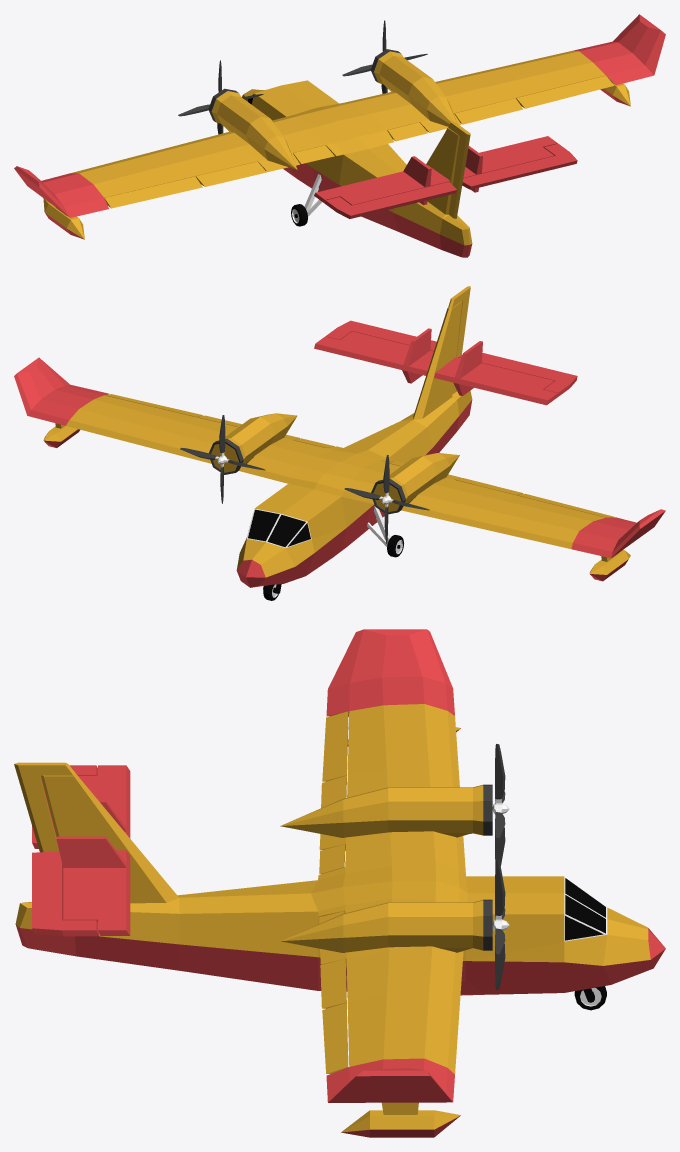
The model's file is canadair.fbx.
3 renders of one model, top to bottom at view 1: azimuth 30°, elevation 25°; view 2: azimuth 150°, elevation 25°; view 3: azimuth 270°, elevation 25°, orthographic. The views are drawn at different scales.
Parts seen in each view (by area): view 1: MainBody, TailPlane, ElevatorLeft, ElevatorRight, AileronLeft, AileronRight, Rubber, Flaps2Left, Flaps2Right, BackWheel, Flaps1Right, Flaps1Left (+2 smaller); view 2: MainBody, TailPlane, ElevatorLeft, ElevatorRight, PropellerLeft, PropellerRight, Rubber, BackWheel; view 3: MainBody, TailPlane, ElevatorRight, Rubber, AileronRight, AileronLeft, PropellerRight, Flaps2Right, PropellerLeft.
Part boxes in pixels (x1,y1,x2,y2): MainBody: (14,14,665,257); TailPlane: (314,136,557,205); ElevatorLeft: (324,182,456,218); ElevatorRight: (462,143,577,189); AileronLeft: (104,176,202,208); AileronRight: (516,75,614,108); Rubber: (448,121,470,218); Flaps2Left: (196,161,266,186); Flaps2Right: (454,98,522,124); BackWheel: (291,174,321,226); Flaps1Right: (387,122,428,141); Flaps1Left: (293,145,334,163); MainBody: (14,301,665,587); TailPlane: (314,328,557,405); ElevatorLeft: (458,353,577,397); ElevatorRight: (325,320,436,351); PropellerLeft: (344,455,429,543); PropellerRight: (180,415,265,503); Rubber: (448,286,470,394); BackWheel: (367,506,403,557); MainBody: (15,629,665,1137); TailPlane: (56,765,130,935); ElevatorRight: (32,851,99,936); Rubber: (14,762,76,852); AileronRight: (322,1003,348,1073); AileronLeft: (322,711,348,781); PropellerRight: (492,860,509,989); Flaps2Right: (320,959,346,1008); PropellerLeft: (492,744,509,866).
Bounding box in the file's own units: 2355 × 605 × 1461.
